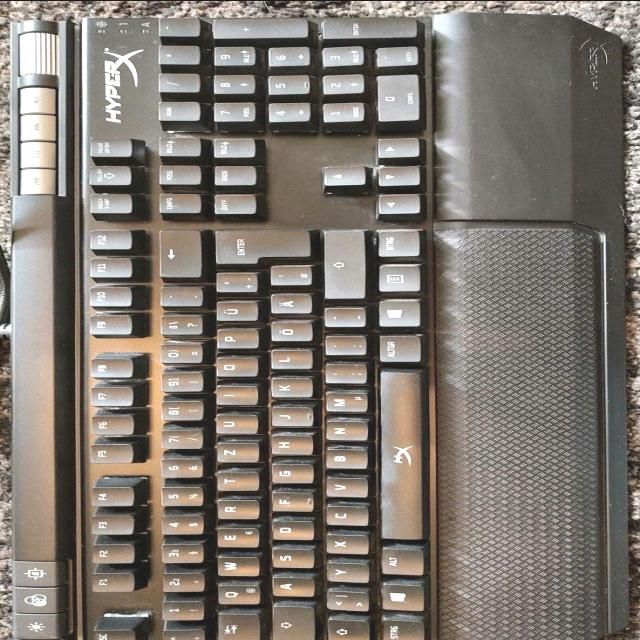0: (154, 343, 201, 366)
1: (156, 601, 202, 622)
2: (156, 572, 202, 593)
3: (156, 544, 202, 565)
4: (155, 515, 202, 536)
5: (155, 486, 202, 507)
6: (155, 458, 201, 480)
7: (155, 428, 201, 450)
8: (155, 401, 202, 423)
9: (155, 372, 202, 394)
a: (267, 576, 313, 598)
accent: (154, 287, 201, 309)
ae: (265, 293, 311, 315)
alt-left: (376, 548, 420, 576)
altgr-right: (373, 334, 419, 364)
b: (319, 448, 365, 470)
c: (320, 505, 366, 527)
caret: (156, 629, 202, 640)
comma: (319, 363, 365, 385)
d: (267, 521, 311, 541)
del: (153, 231, 199, 280)
e: (212, 527, 256, 549)
enter: (210, 230, 310, 266)
f: (266, 491, 312, 512)
g: (266, 463, 312, 484)
h: (265, 435, 311, 456)
hash: (266, 267, 310, 287)
i: (211, 385, 255, 407)
j: (264, 407, 311, 427)
k: (265, 378, 311, 400)
keyboard: (59, 11, 446, 640)
l: (265, 350, 311, 371)
less: (321, 591, 367, 613)
m: (319, 392, 366, 414)
minus: (319, 308, 363, 329)
n: (319, 421, 366, 442)
o: (211, 357, 255, 379)
oe: (265, 321, 311, 343)
p: (212, 329, 256, 350)
plus: (210, 273, 256, 295)
point: (320, 336, 364, 357)
q: (213, 584, 259, 606)
r: (212, 499, 256, 521)
s: (267, 549, 311, 570)
shift-left: (324, 619, 368, 640)
shift-lock: (268, 605, 314, 640)
shift-right: (320, 231, 364, 301)
space: (373, 369, 423, 543)
ss: (155, 315, 202, 337)
strg-left: (377, 619, 421, 640)
strg-right: (373, 229, 419, 259)
t: (211, 471, 257, 492)
tab: (212, 614, 257, 640)
u: (210, 414, 256, 436)
ue: (211, 301, 257, 323)
v: (319, 477, 365, 499)
w: (212, 556, 258, 578)
x: (321, 534, 365, 555)
y: (322, 563, 366, 584)
z: (210, 443, 256, 463)
